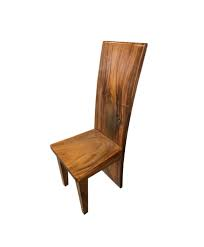tiyarina: (38, 32, 152, 219)
